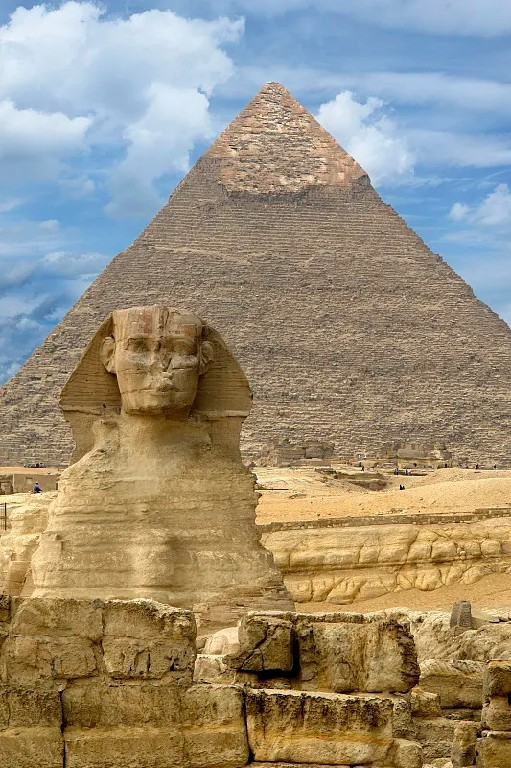Pyramid: (5, 82, 511, 462)
